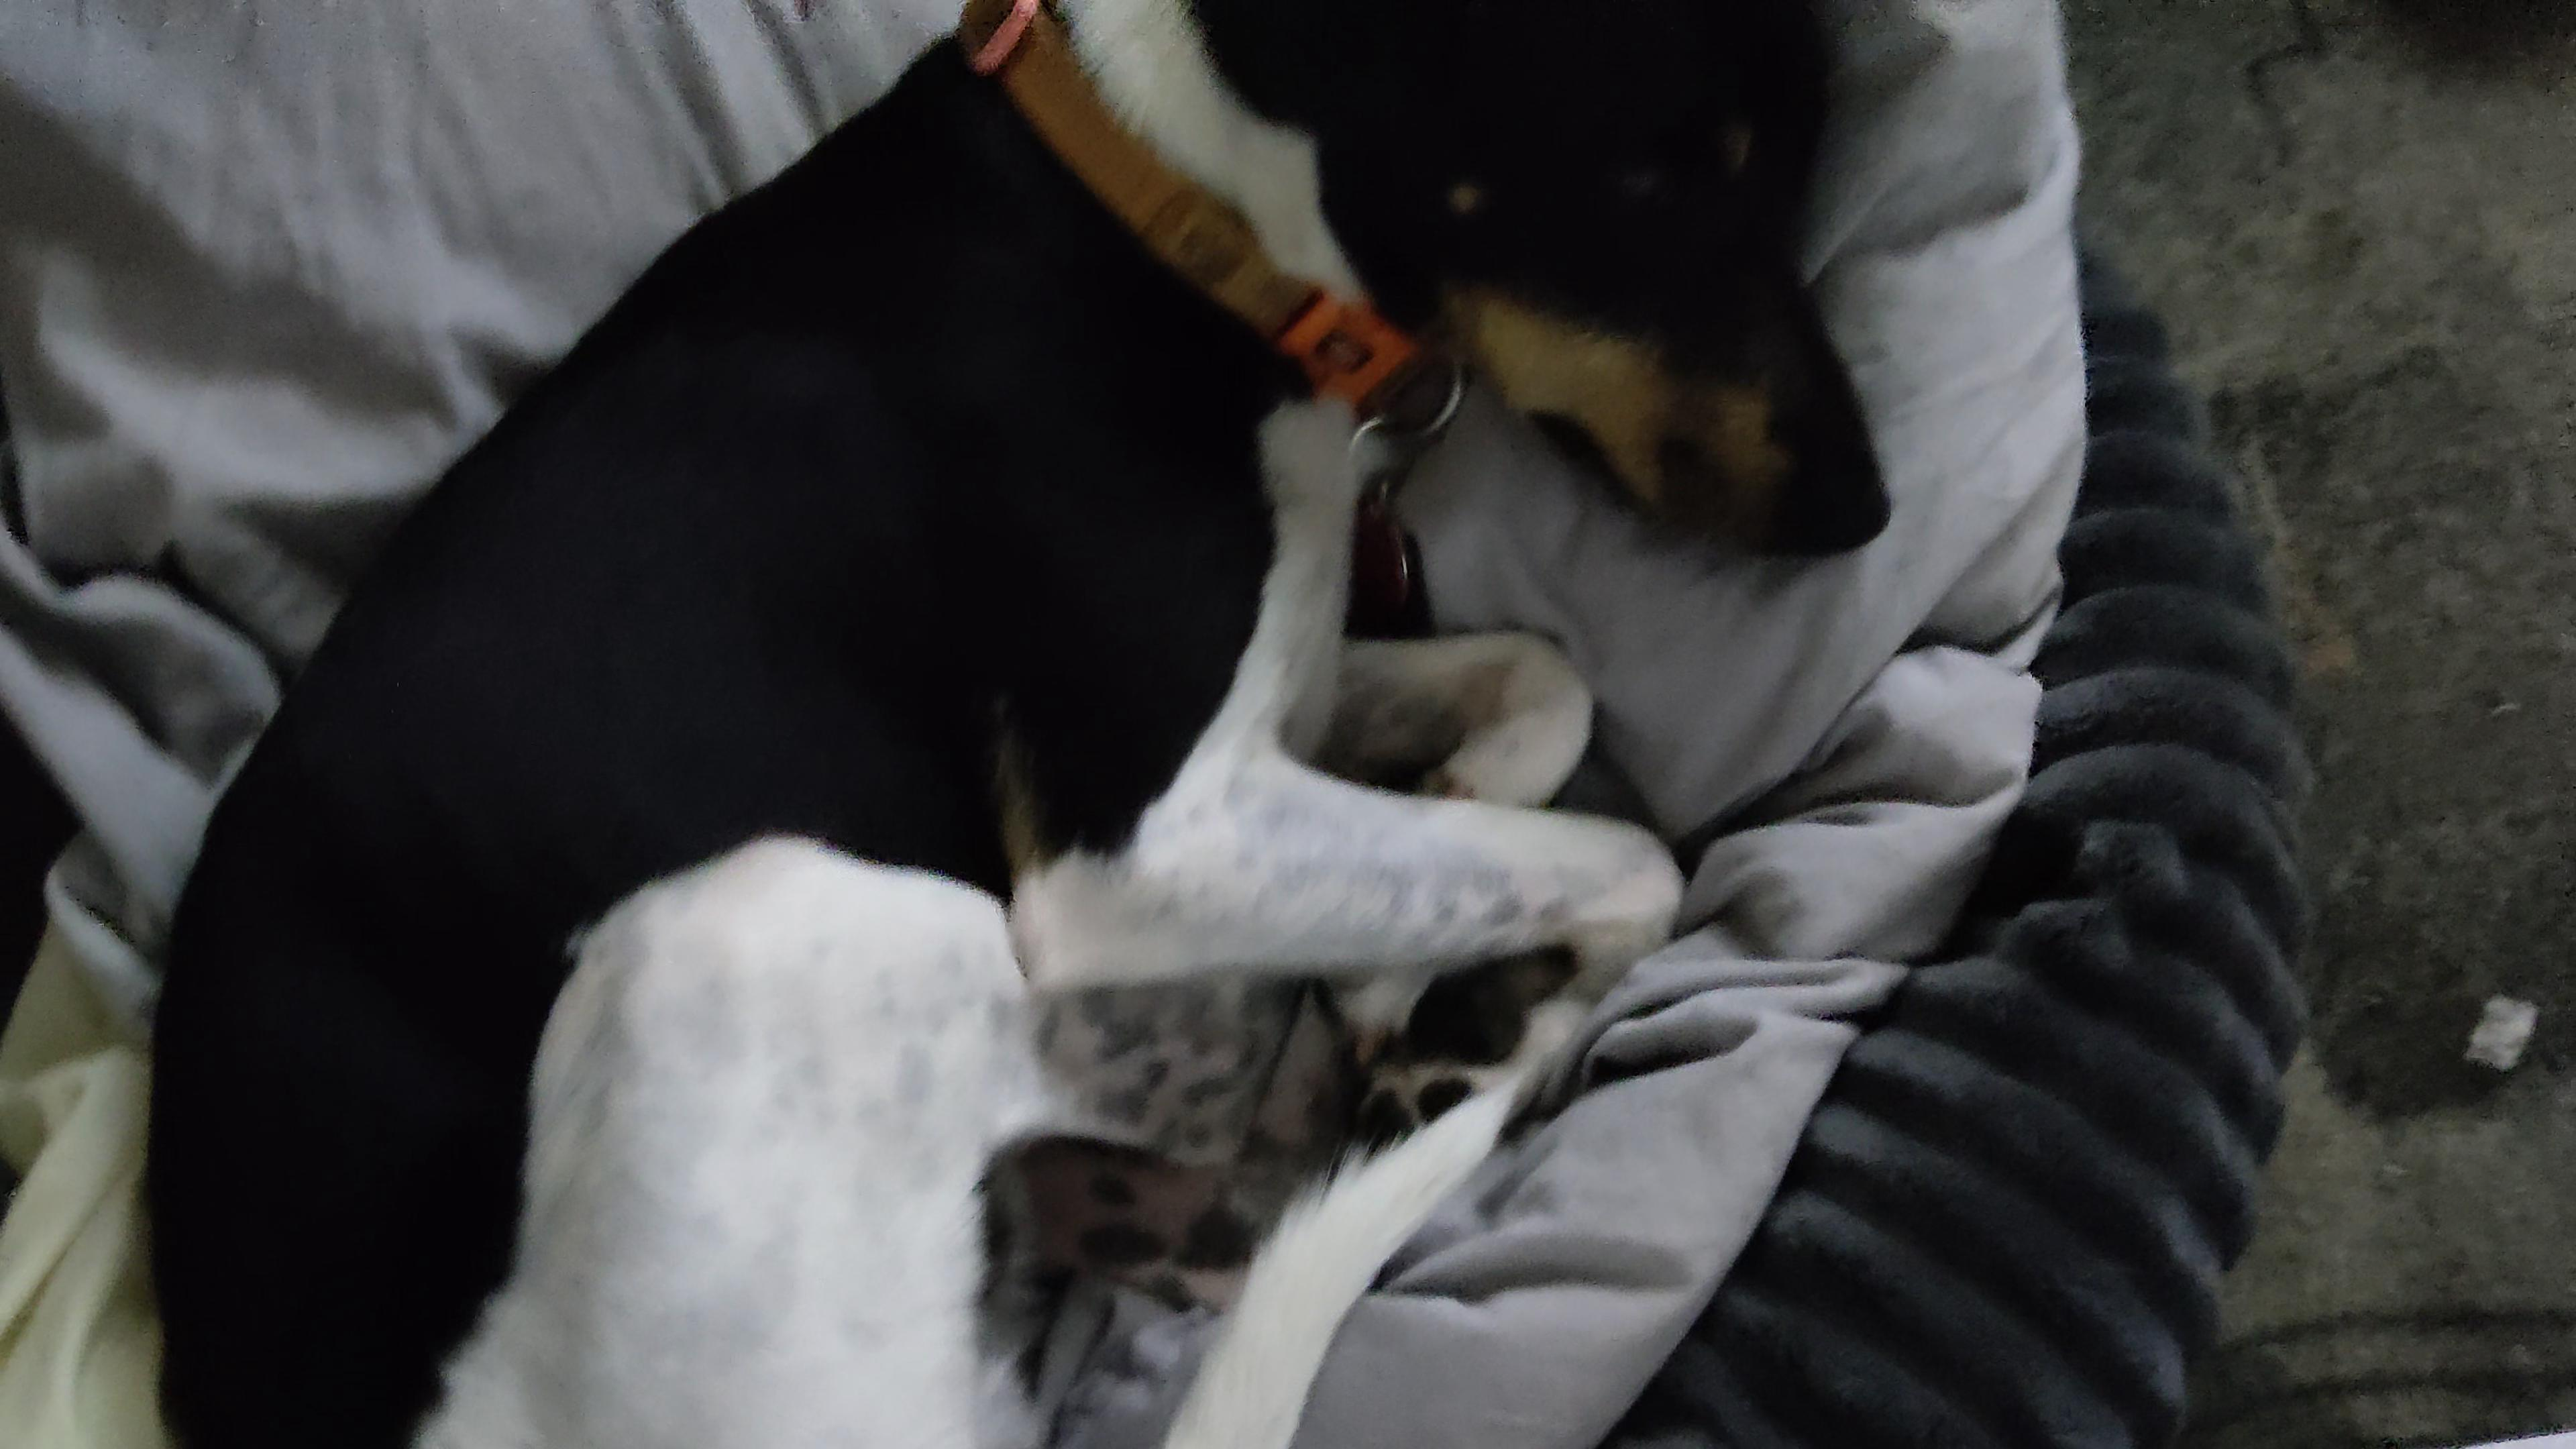Dog: (110, 0, 1918, 1449)
